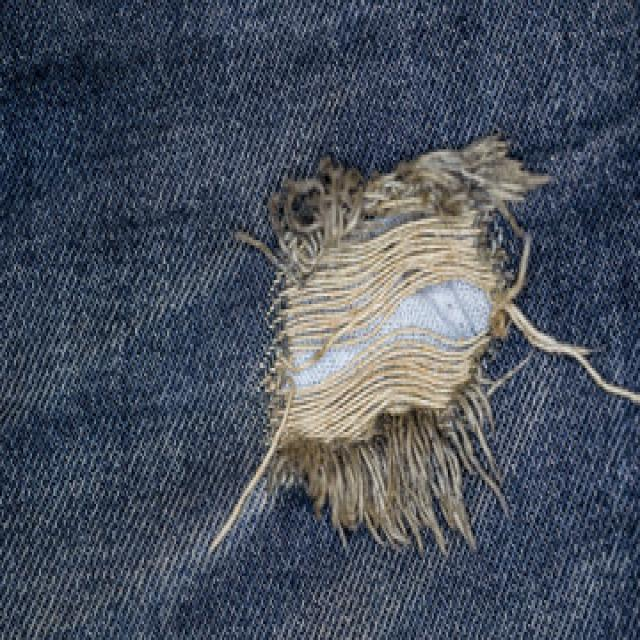Hole: (216, 135, 550, 550), (265, 136, 550, 500)
